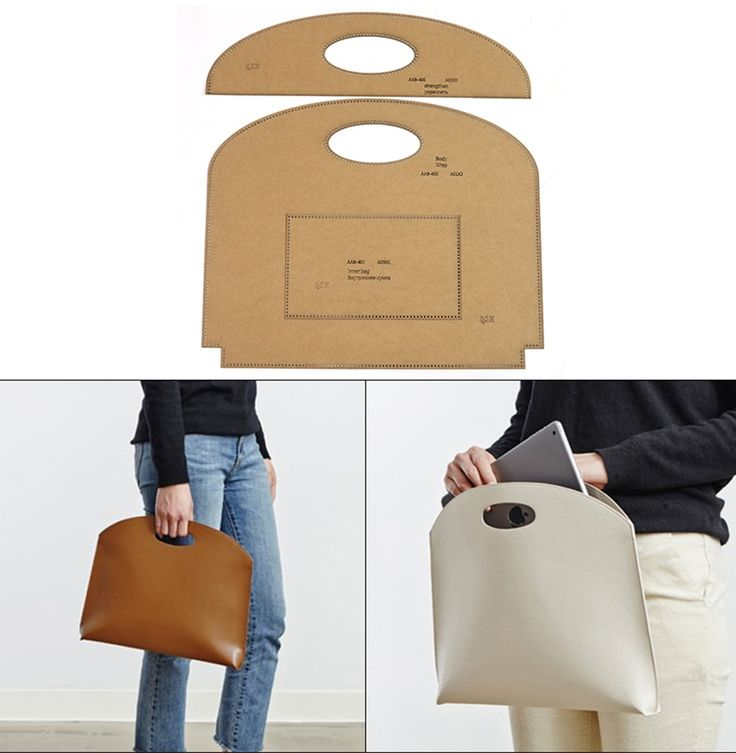cuero: (79, 475, 660, 717)
